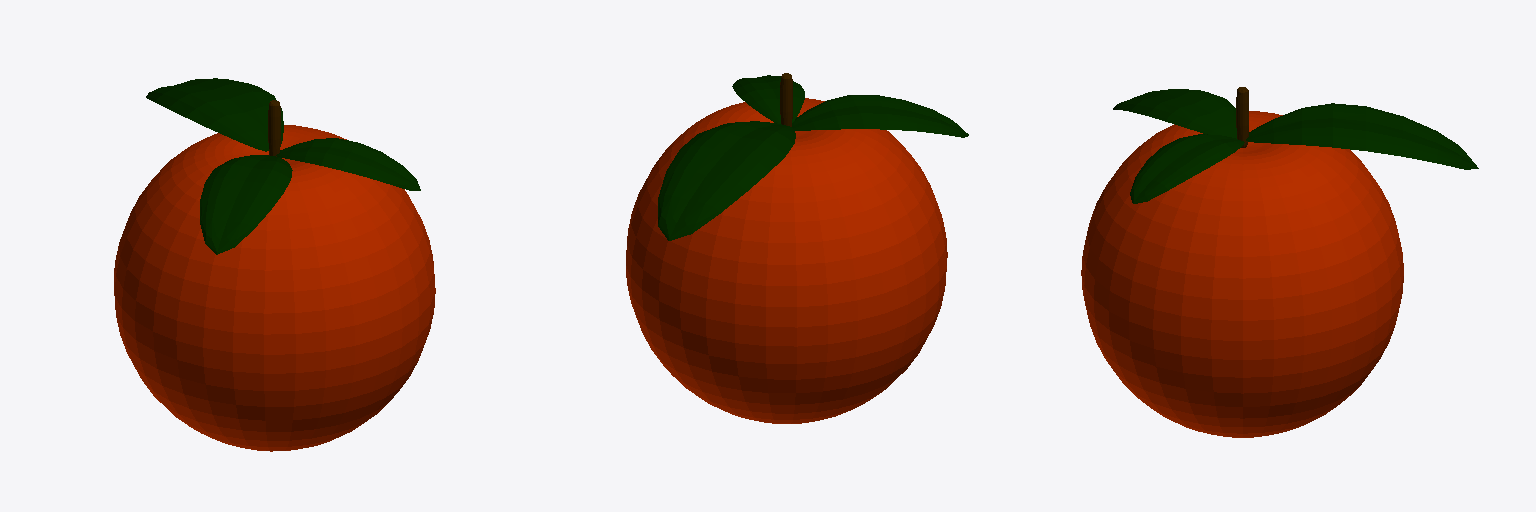
File: Orange.obj
3 views of the same model, side by side, from view 1: azimuth 30°, elevation 25°; view 2: azimuth 150°, elevation 25°; view 3: azimuth 270°, elevation 25° (orthographic).
Parts seen in each view (by area): view 1: Orange_Sphere.001; view 2: Orange_Sphere.001; view 3: Orange_Sphere.001.
Part boxes in pixels (x1,y1,x2,y2): Orange_Sphere.001: (114, 78, 435, 451); Orange_Sphere.001: (626, 73, 968, 423); Orange_Sphere.001: (1081, 87, 1478, 437).
Size of the model in its own units: 1.93 by 2.21 by 2.37.